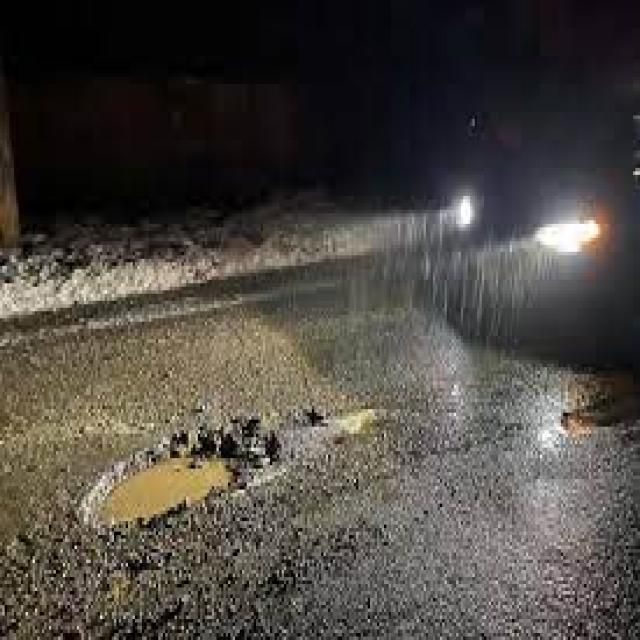Pothole: (80, 415, 279, 534), (560, 378, 640, 439)
